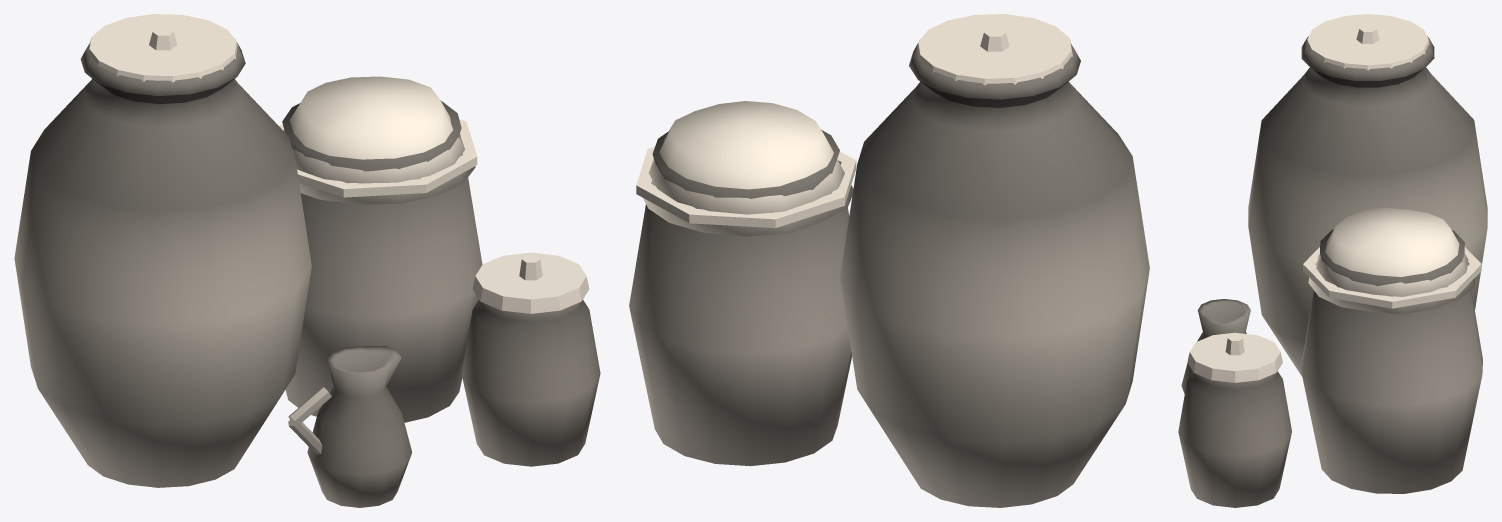
Rendered from SM_VKI_Prop_Jars_Cluster.fbx.
3 renders of one model, left to right at view 1: azimuth 30°, elevation 25°; view 2: azimuth 150°, elevation 25°; view 3: azimuth 270°, elevation 25°, orthographic. The views are drawn at different scales.
Visible parts, largest first — view 1: SM_VKI_Prop_Jars_Cluster.001; view 2: SM_VKI_Prop_Jars_Cluster.001; view 3: SM_VKI_Prop_Jars_Cluster.001.
Part boxes in pixels (x1=…): SM_VKI_Prop_Jars_Cluster.001: x1=14, y1=14, x2=600, y2=507; SM_VKI_Prop_Jars_Cluster.001: x1=629, y1=14, x2=1149, y2=507; SM_VKI_Prop_Jars_Cluster.001: x1=1178, y1=14, x2=1487, y2=507.
Size of the model in its own units: 0.8258 by 0.704 by 0.5708.
